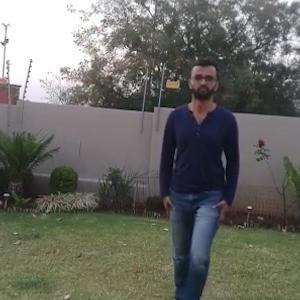follow: (159, 67, 235, 299)
